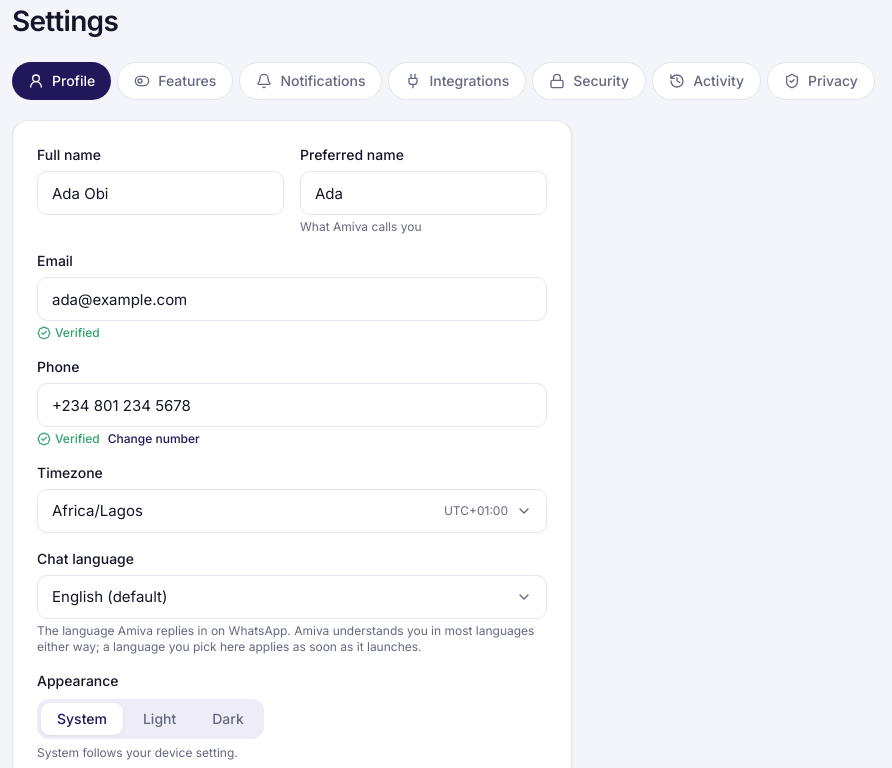
Activity log (inside Settings) › filters by risk through the custom dropdown
The image size is (892, 768).
Click the button "Activity" at (707, 81), box [652,62,761,100]
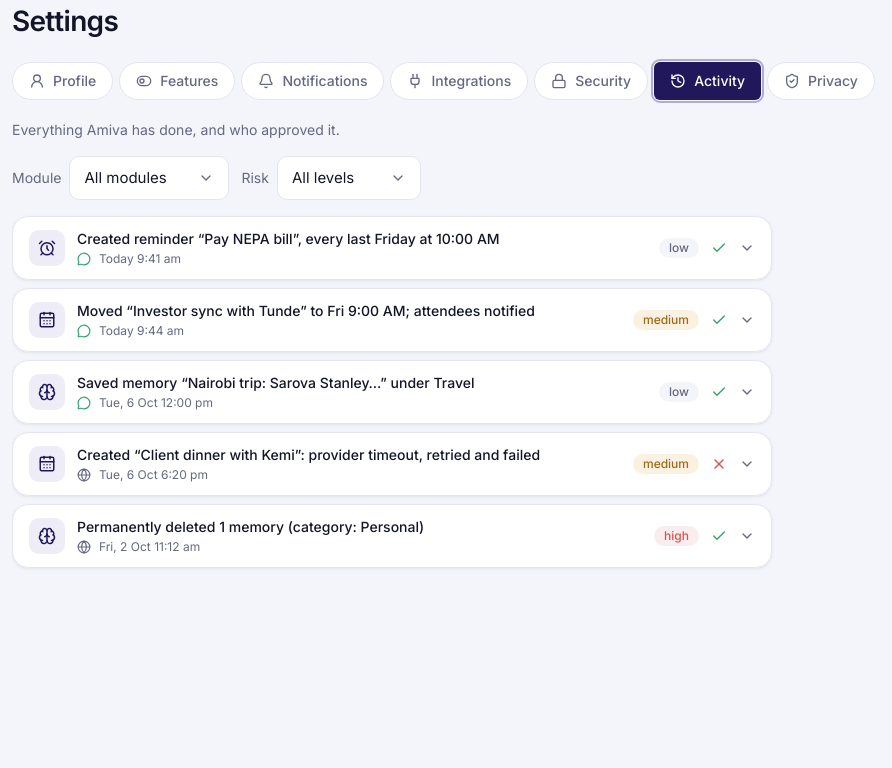
Click the dropdown named "Risk filter" at (349, 178), box [277,156,421,200]
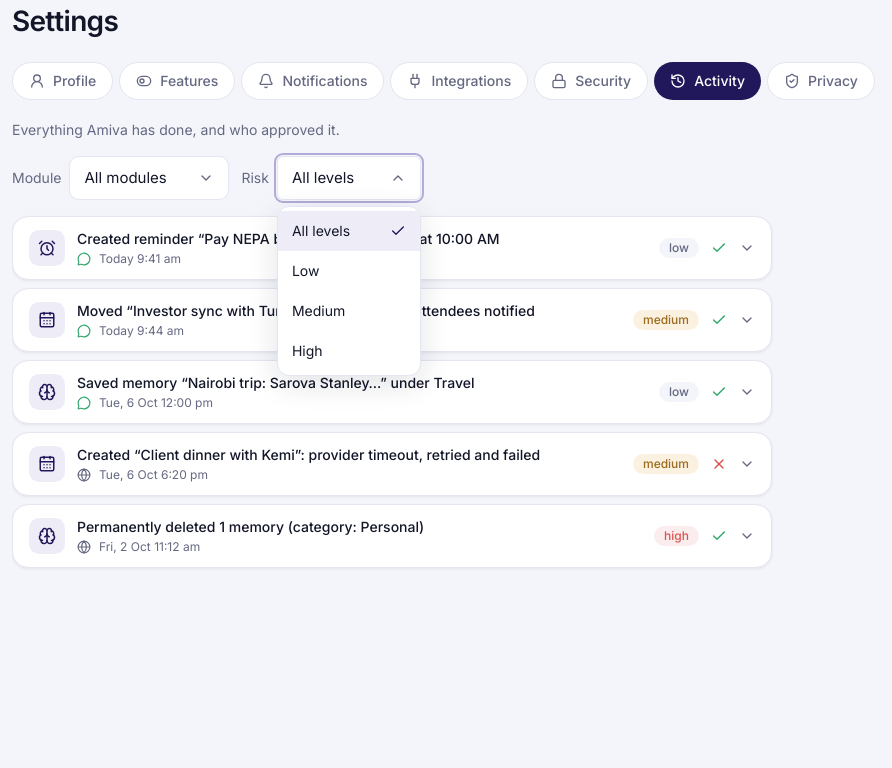
Click the option "High" at (307, 350), box [292,342,323,359]
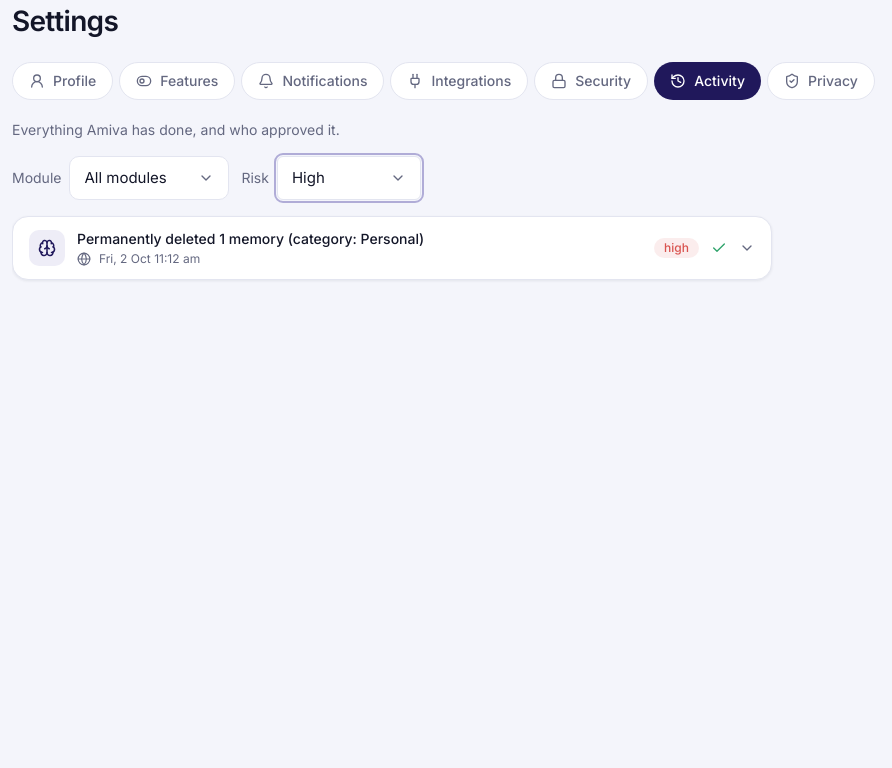
Now the text "Permanently deleted 1 memory (category: Personal)" is shown, box [77,230,424,247]
Now the button "Pay NEPA bill" is gone
